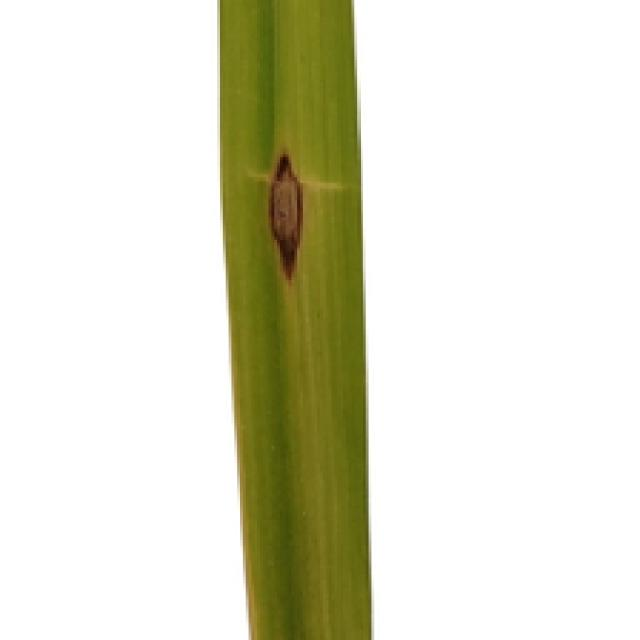Rice___Rice_Blast: (220, 0, 374, 637)
